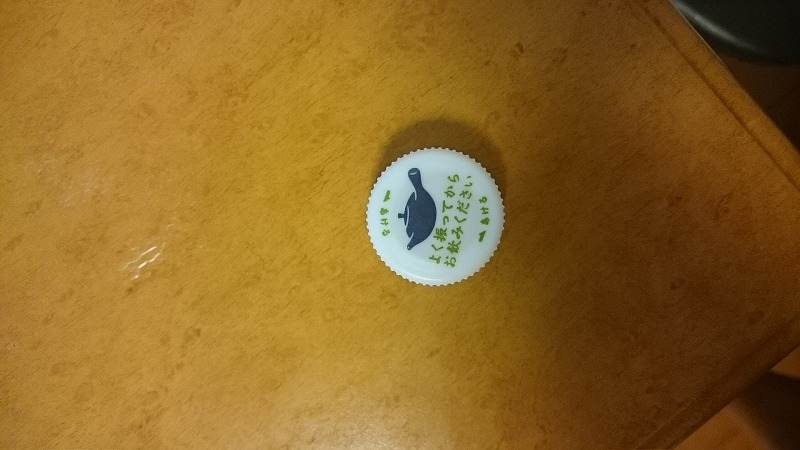A: (360, 139, 514, 289)
